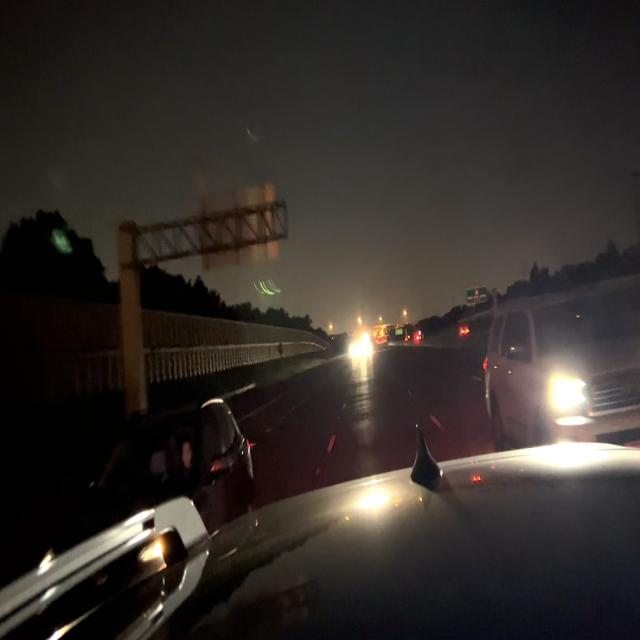back-of-sign: (194, 185, 279, 270)
